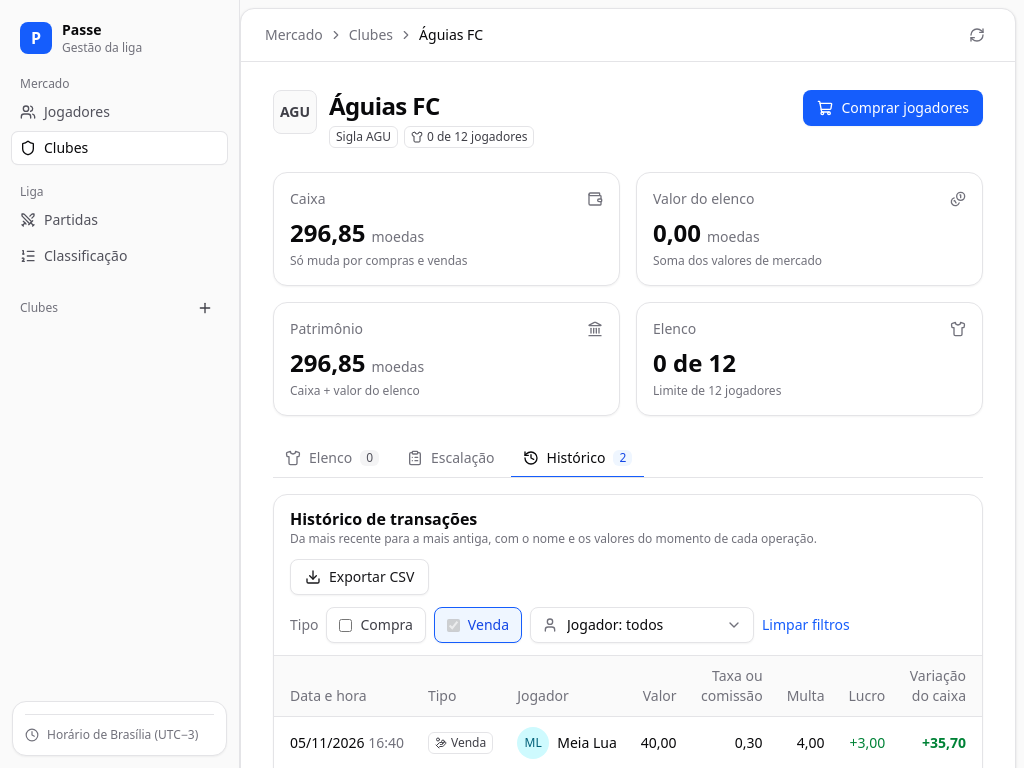
Scenario: Exportar CSV › baixa o arquivo da API pedido com os filtros aplicados
Check: the row "Venda" is shown, box [274, 716, 982, 767]
Step 1. Click the button "Exportar CSV" → (360, 577), box [290, 559, 429, 595]
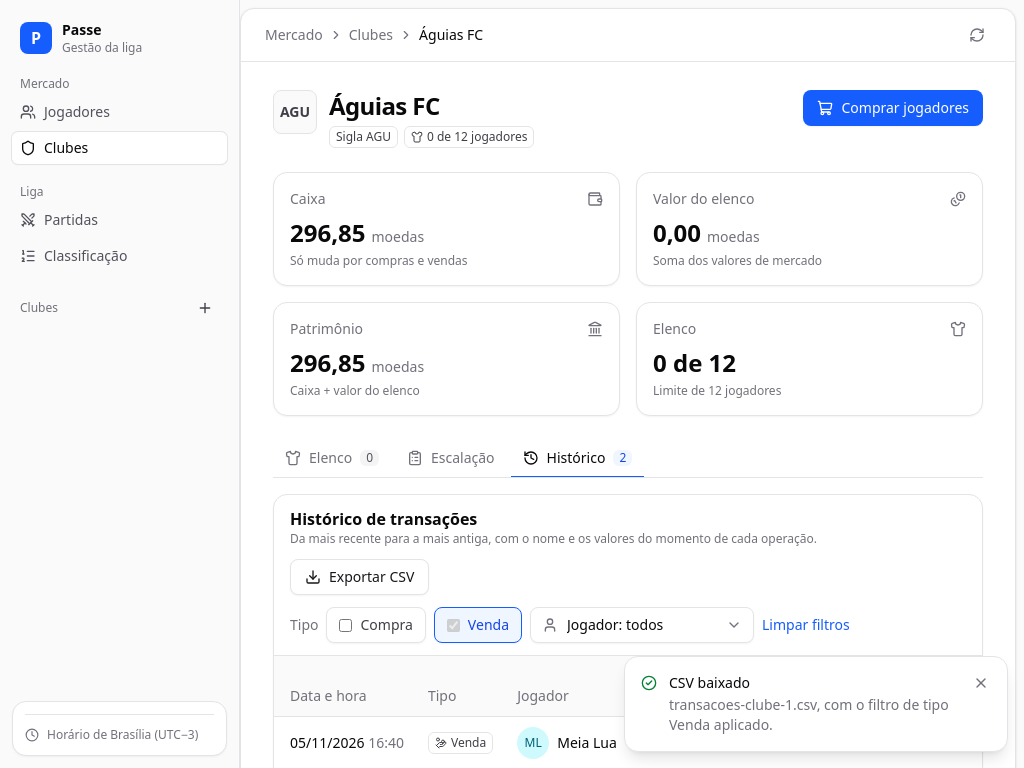
Check: the text "CSV baixado" is shown, box [669, 673, 750, 692]
Check: the text "transacoes-clube-1.csv, com o filtro de tipo Venda aplicado." is shown, box [669, 695, 959, 735]
